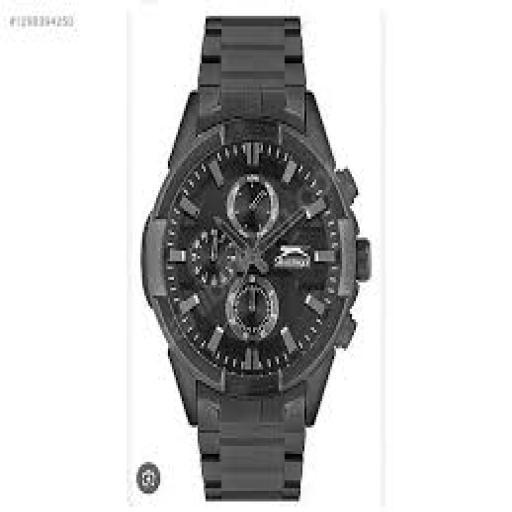KolSaati: (133, 8, 375, 510)
